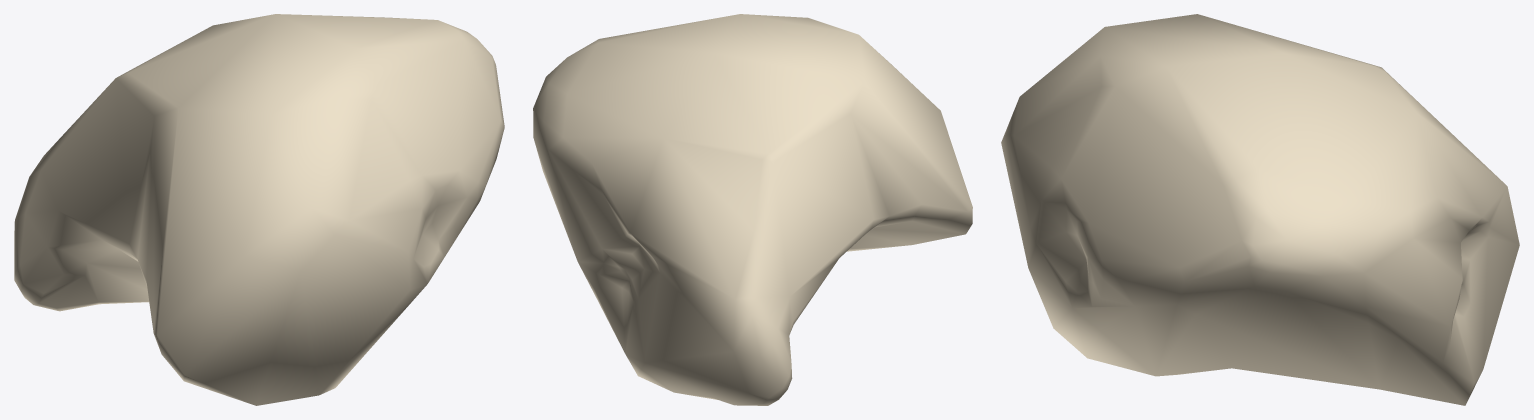
Rendered from lunate-bone-r.glb.
3 views of the same model, side by side, from view 1: azimuth 30°, elevation 25°; view 2: azimuth 150°, elevation 25°; view 3: azimuth 270°, elevation 25° (orthographic). The views are drawn at different scales.
Parts seen in each view (by area): view 1: Lunate bone.r; view 2: Lunate bone.r; view 3: Lunate bone.r.
Part boxes in pixels (x1,y1,x2,y2): Lunate bone.r: (14,14,504,405); Lunate bone.r: (533,14,972,405); Lunate bone.r: (1001,14,1519,405).
Size of the model in its own units: 0.0173 by 0.0132 by 0.0172.
